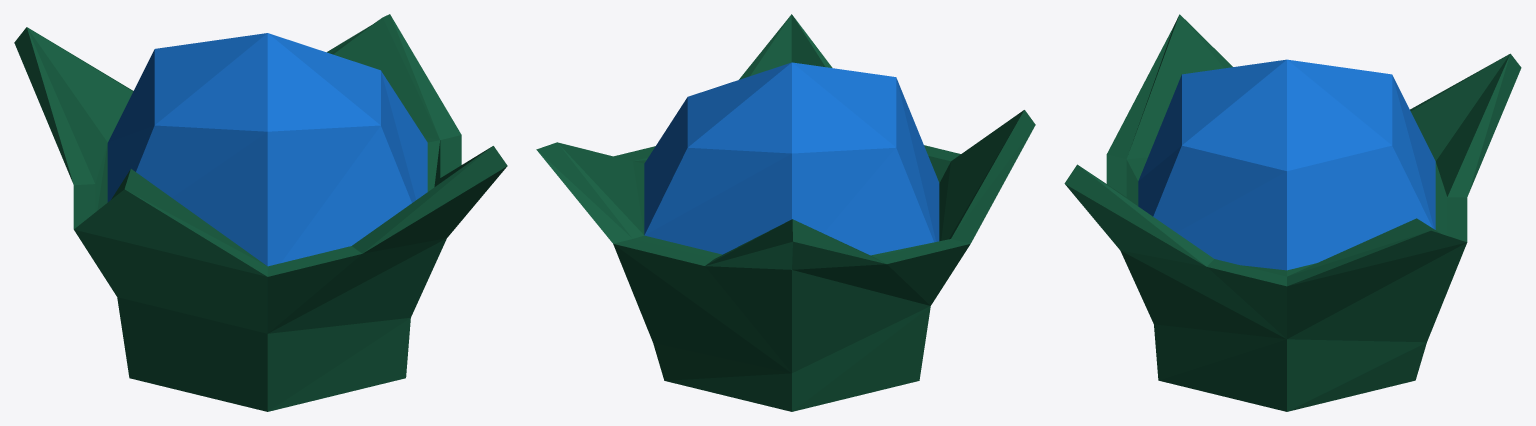
File: T_cupcake_1.fbx
3 renders of one model, left to right at view 1: azimuth 30°, elevation 25°; view 2: azimuth 150°, elevation 25°; view 3: azimuth 270°, elevation 25°, orthographic. The views are drawn at different scales.
Parts seen in each view (by area): view 1: cupcake_1; view 2: cupcake_1; view 3: cupcake_1.
Part boxes in pixels (x1,y1,x2,y2): cupcake_1: [14, 14, 507, 411]; cupcake_1: [536, 14, 1035, 411]; cupcake_1: [1064, 14, 1521, 411].
Size of the model in its own units: 11.97 by 8.83 by 12.63.
